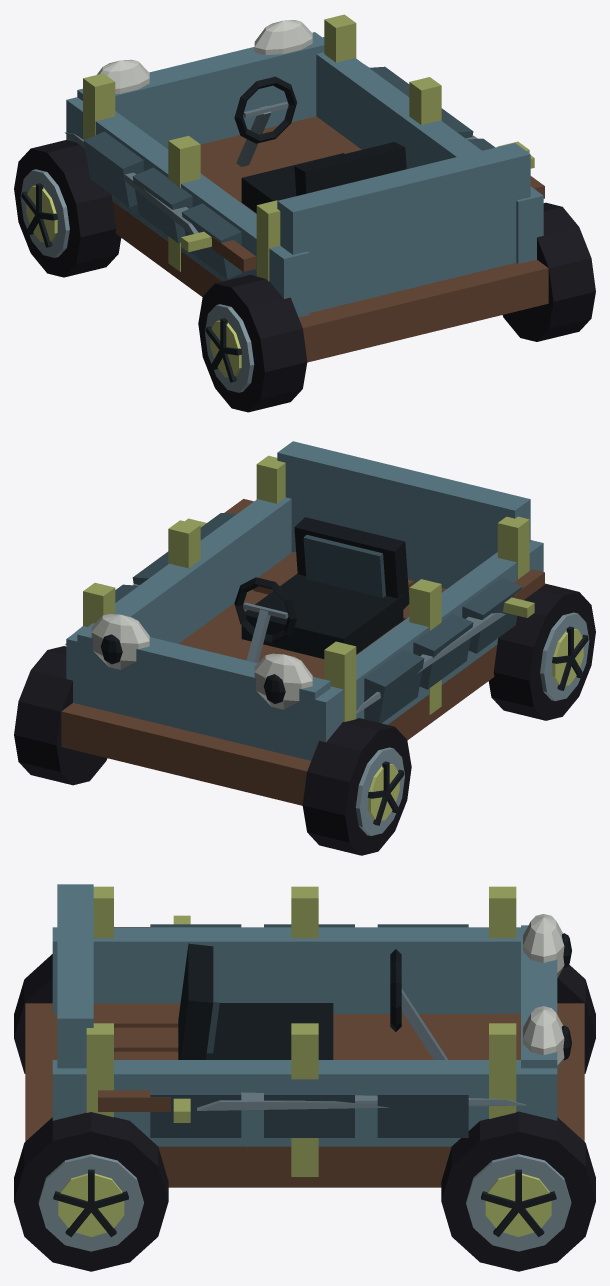
Rendered from kart.glb.
3 renders of one model, top to bottom at view 1: azimuth 30°, elevation 25°; view 2: azimuth 150°, elevation 25°; view 3: azimuth 270°, elevation 25°, orthographic. The views are drawn at different scales.
Visible parts, largest first — view 1: identity-wagon-wagon-timber-coach, wheel-rear-left, wheel-front-left, identity-wagon-motif-armor, identity-wagon-driver-cockpit, wheel-rear-right, identity-wagon-motif-eyes, identity-wagon-motif-swords; view 2: identity-wagon-wagon-timber-coach, identity-wagon-driver-cockpit, wheel-front-left, wheel-rear-left, identity-wagon-motif-armor, wheel-front-right, identity-wagon-motif-eyes, identity-wagon-motif-swords; view 3: identity-wagon-wagon-timber-coach, wheel-rear-right, wheel-front-right, identity-wagon-motif-armor, identity-wagon-driver-cockpit, identity-wagon-motif-swords, identity-wagon-motif-eyes, wheel-rear-left, wheel-front-left.
Part boxes in pixels (left/top/right/bottom): identity-wagon-wagon-timber-coach: left=66, top=14, right=548, bottom=362; wheel-rear-left: left=198, top=275, right=307, bottom=412; wheel-front-left: left=14, top=140, right=121, bottom=277; identity-wagon-motif-armor: left=83, top=66, right=495, bottom=279; identity-wagon-driver-cockpit: left=234, top=76, right=406, bottom=213; wheel-rear-right: left=502, top=202, right=595, bottom=341; identity-wagon-motif-eyes: left=97, top=20, right=312, bottom=93; identity-wagon-motif-swords: left=65, top=64, right=544, bottom=271; identity-wagon-wagon-timber-coach: left=61, top=441, right=543, bottom=805; identity-wagon-driver-cockpit: left=234, top=517, right=409, bottom=663; wheel-front-left: left=302, top=718, right=411, bottom=855; wheel-rear-left: left=488, top=583, right=595, bottom=720; identity-wagon-motif-armor: left=115, top=513, right=522, bottom=723; wheel-front-right: left=14, top=646, right=107, bottom=785; identity-wagon-motif-eyes: left=91, top=614, right=312, bottom=709; identity-wagon-motif-swords: left=65, top=499, right=544, bottom=715; identity-wagon-wagon-timber-coach: left=25, top=884, right=584, bottom=1187; wheel-rear-right: left=14, top=1112, right=168, bottom=1271; wheel-front-right: left=441, top=1111, right=595, bottom=1271; identity-wagon-motif-armor: left=150, top=924, right=468, bottom=1137; identity-wagon-driver-cockpit: left=178, top=943, right=448, bottom=1059; identity-wagon-motif-swords: left=98, top=915, right=526, bottom=1122; identity-wagon-motif-eyes: left=523, top=914, right=571, bottom=1070; wheel-rear-left: left=14, top=954, right=52, bottom=1073; wheel-front-left: left=557, top=964, right=595, bottom=1073.
Bounding box in the file's own units: 2.07 × 1.1 × 2.56.
